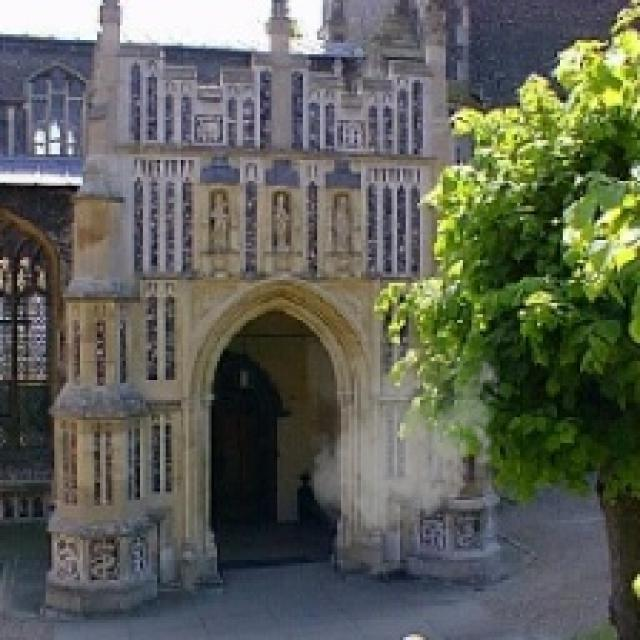Smoke: (306, 334, 506, 546)
